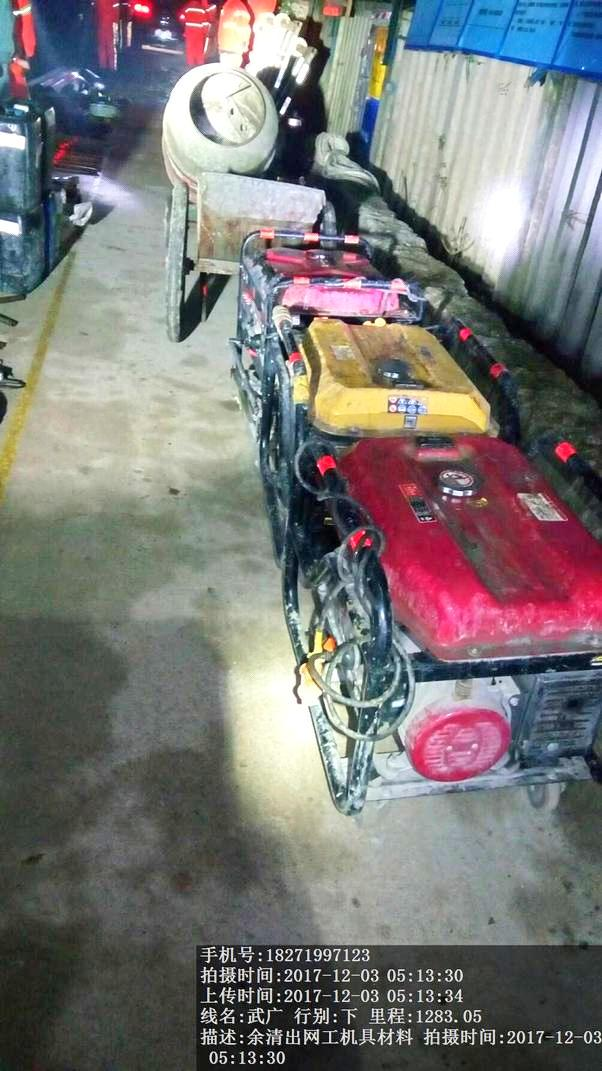DJ: (272, 435, 597, 814), (232, 314, 533, 443)
